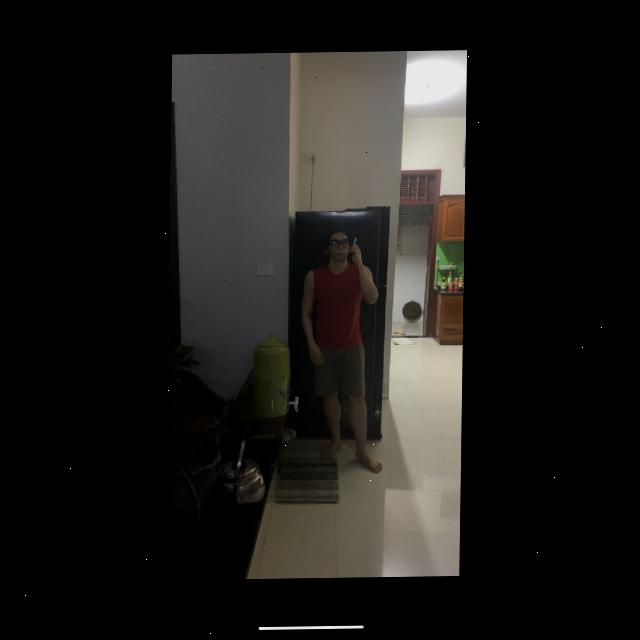cigarette: (353, 239, 357, 246)
